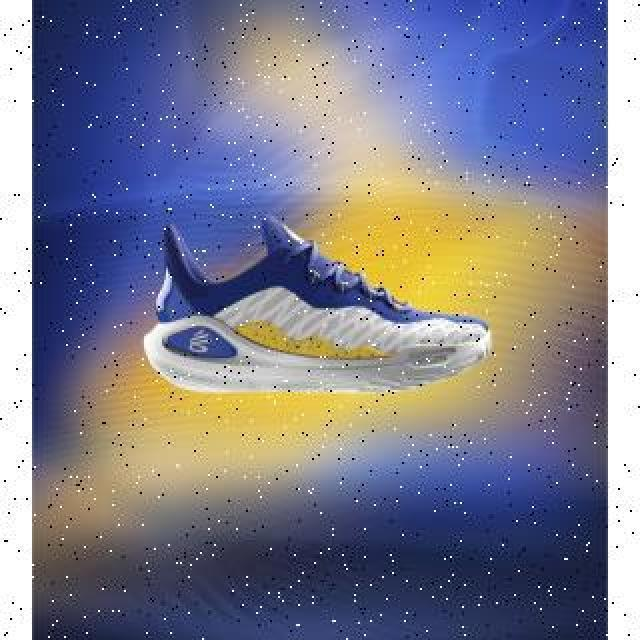shoes: (144, 212, 488, 394)
